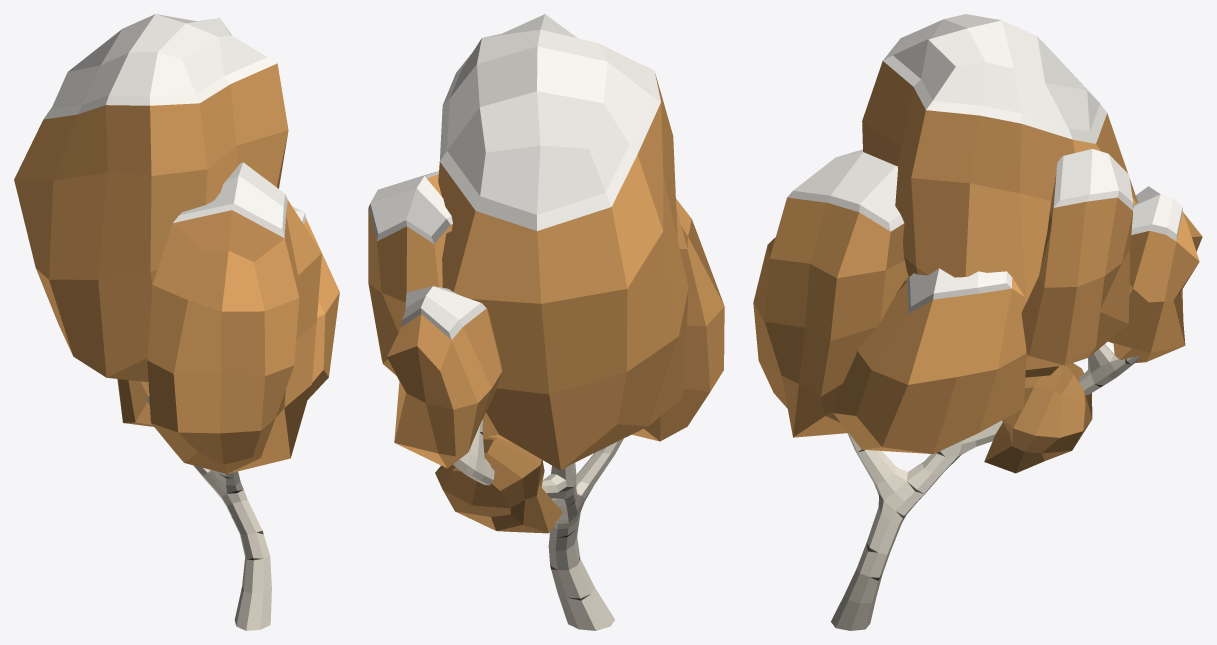
File: BirchTree_Snow_1.glb
3 views of the same model, side by side, from view 1: azimuth 30°, elevation 25°; view 2: azimuth 150°, elevation 25°; view 3: azimuth 270°, elevation 25° (orthographic). The views are drawn at different scales.
Parts seen in each view (by area): view 1: BirchTree_Snow_1; view 2: BirchTree_Snow_1; view 3: BirchTree_Snow_1.
Boxes of the visible parts, <box> form: BirchTree_Snow_1: <box>14,14,339,630</box>; BirchTree_Snow_1: <box>368,14,724,630</box>; BirchTree_Snow_1: <box>753,14,1202,630</box>.
Size of the model in its own units: 1.7 by 3.59 by 2.48.
